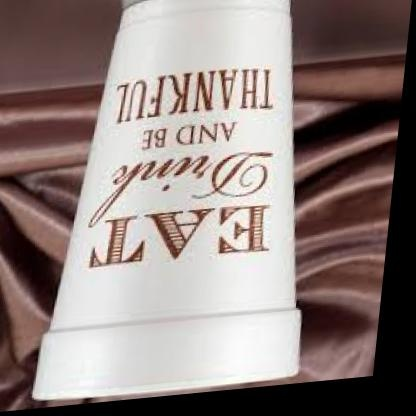trash: (33, 0, 300, 399)
